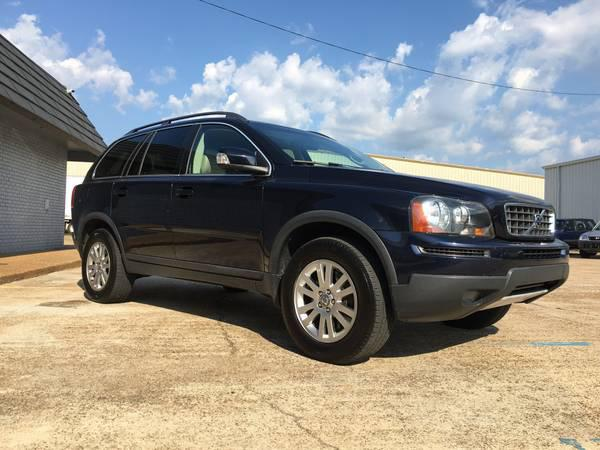volvo: (42, 101, 586, 373)
